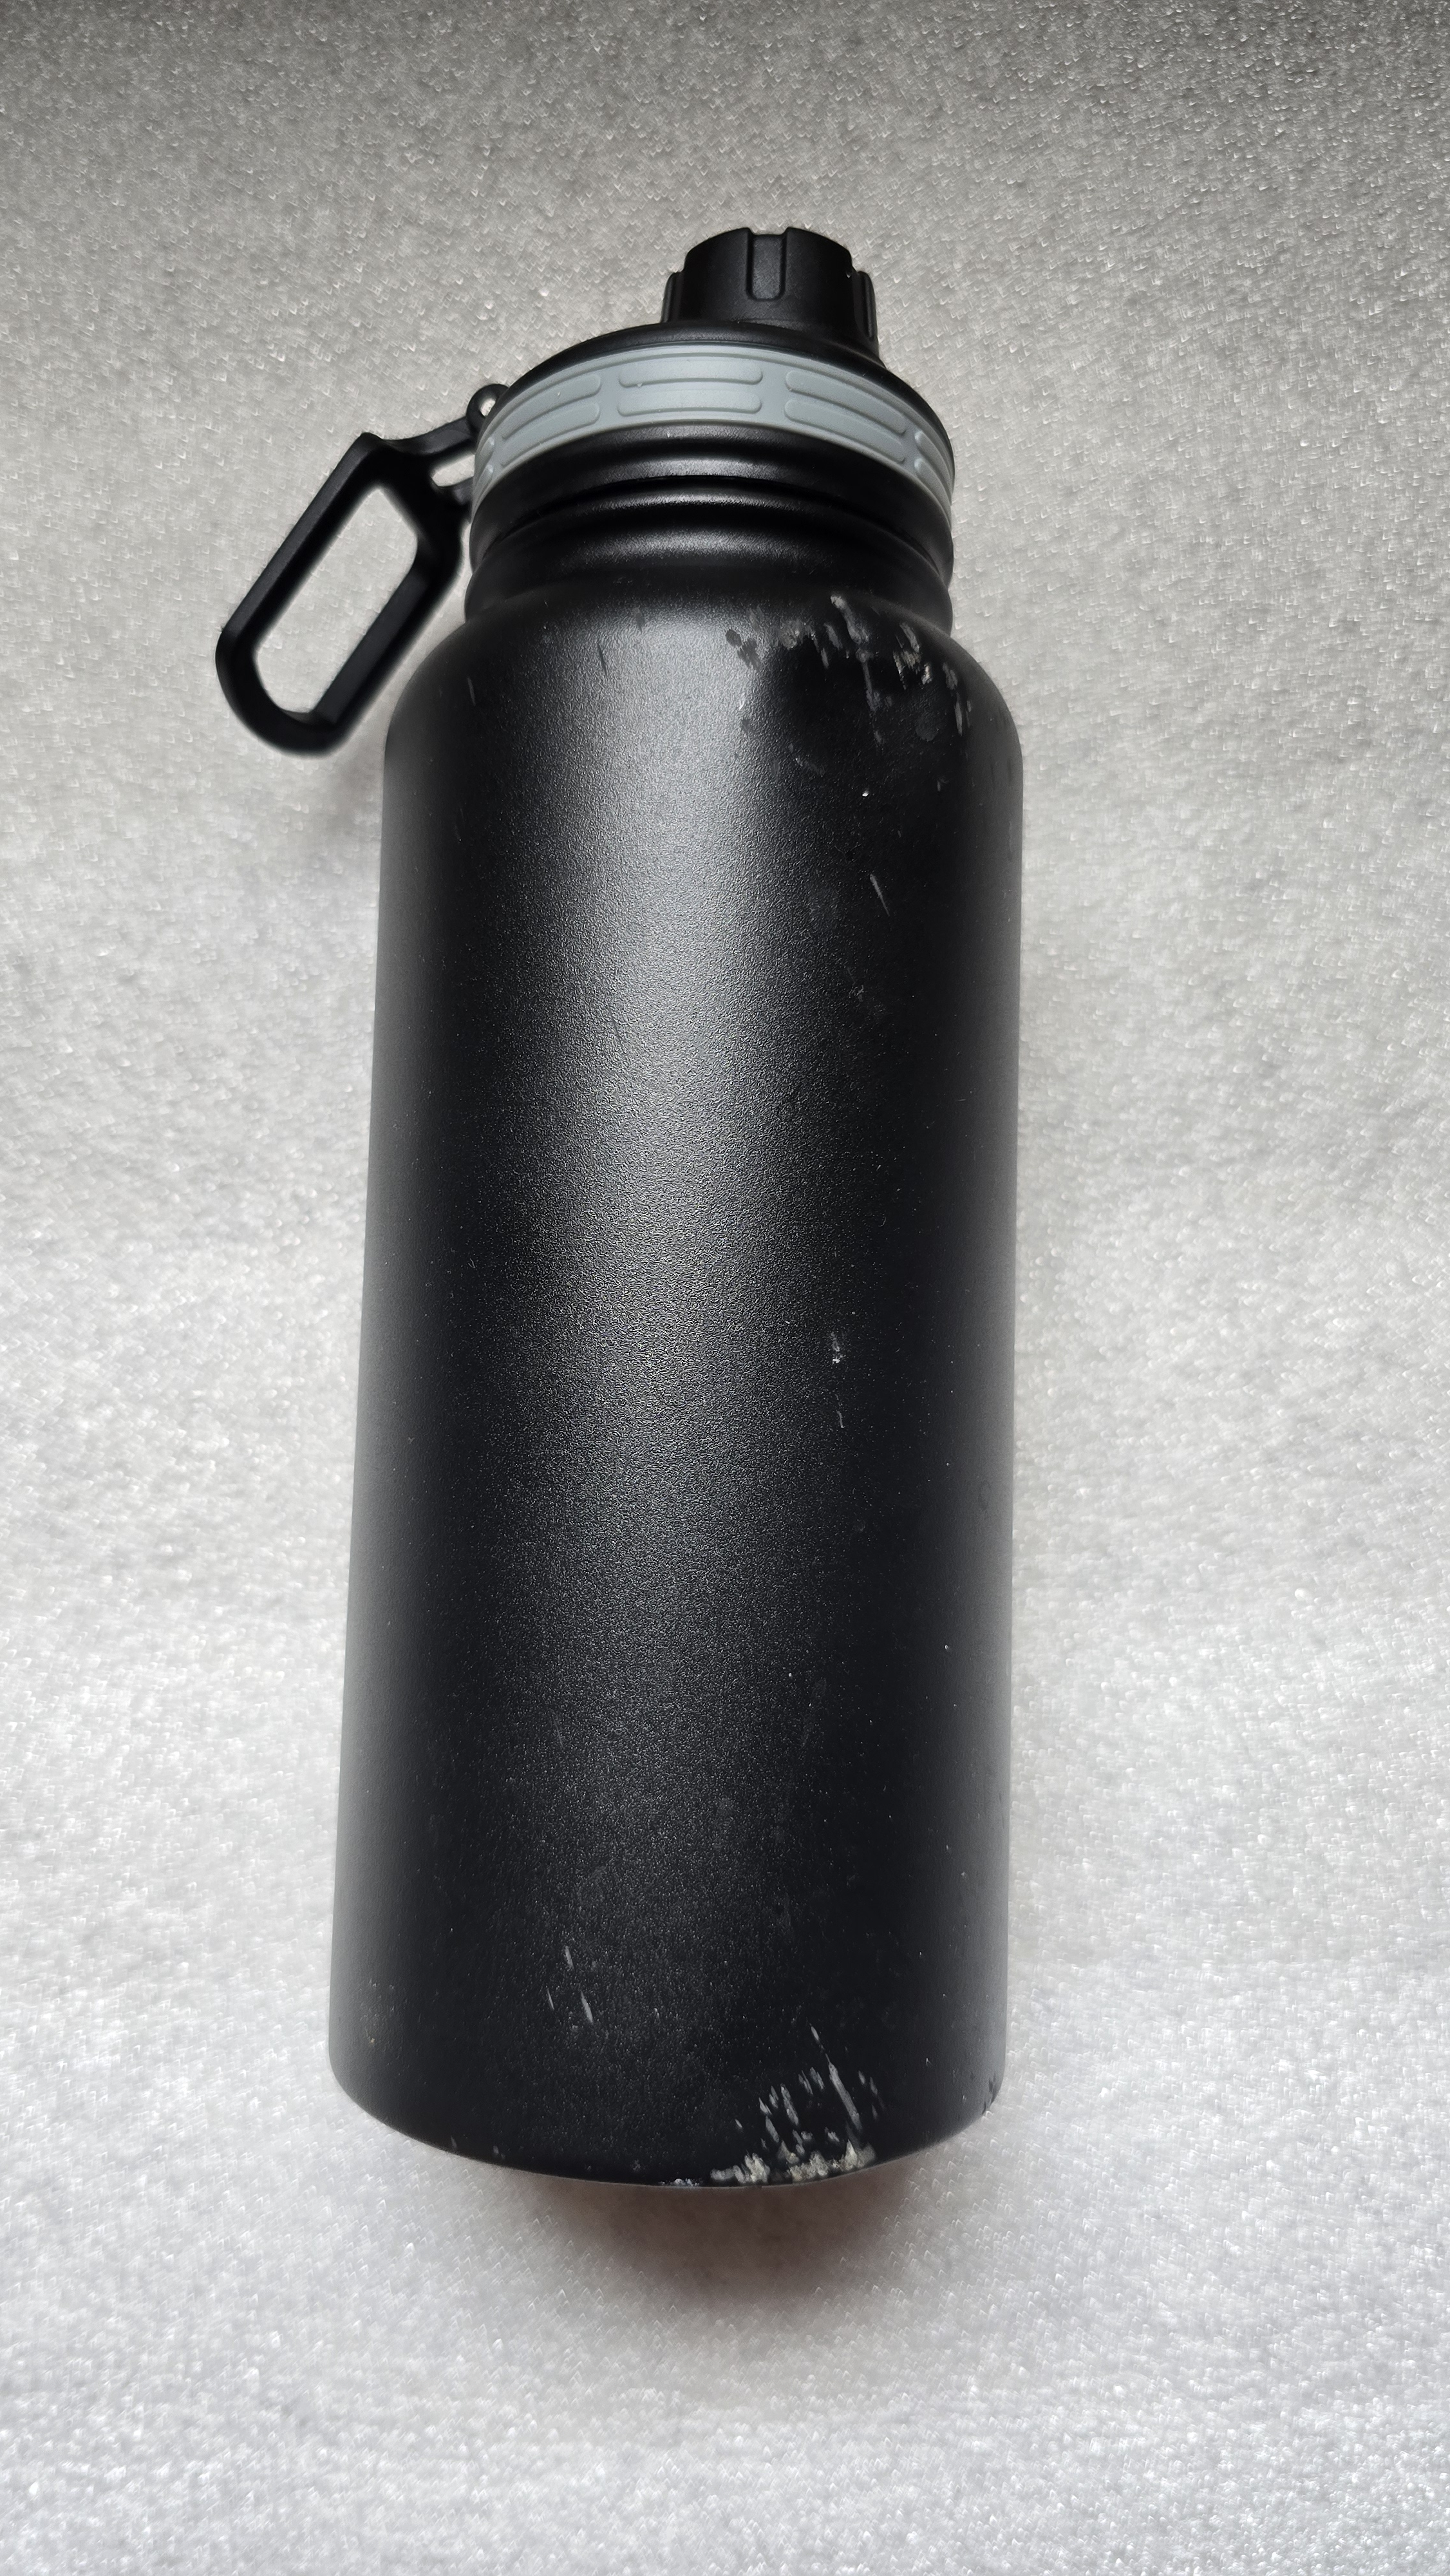bottle: (209, 203, 1243, 2238)
